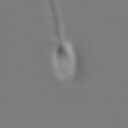normal: (43, 1, 72, 39)
